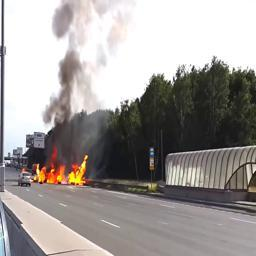fire: (35, 146, 88, 185)
